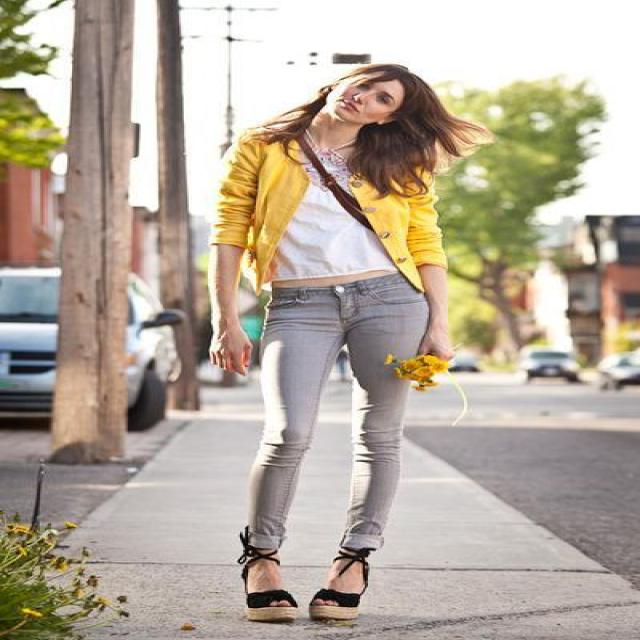jacket: (211, 120, 442, 301)
pants: (240, 270, 438, 549)
shirt: (277, 144, 371, 268)
shoe: (246, 589, 360, 623)
